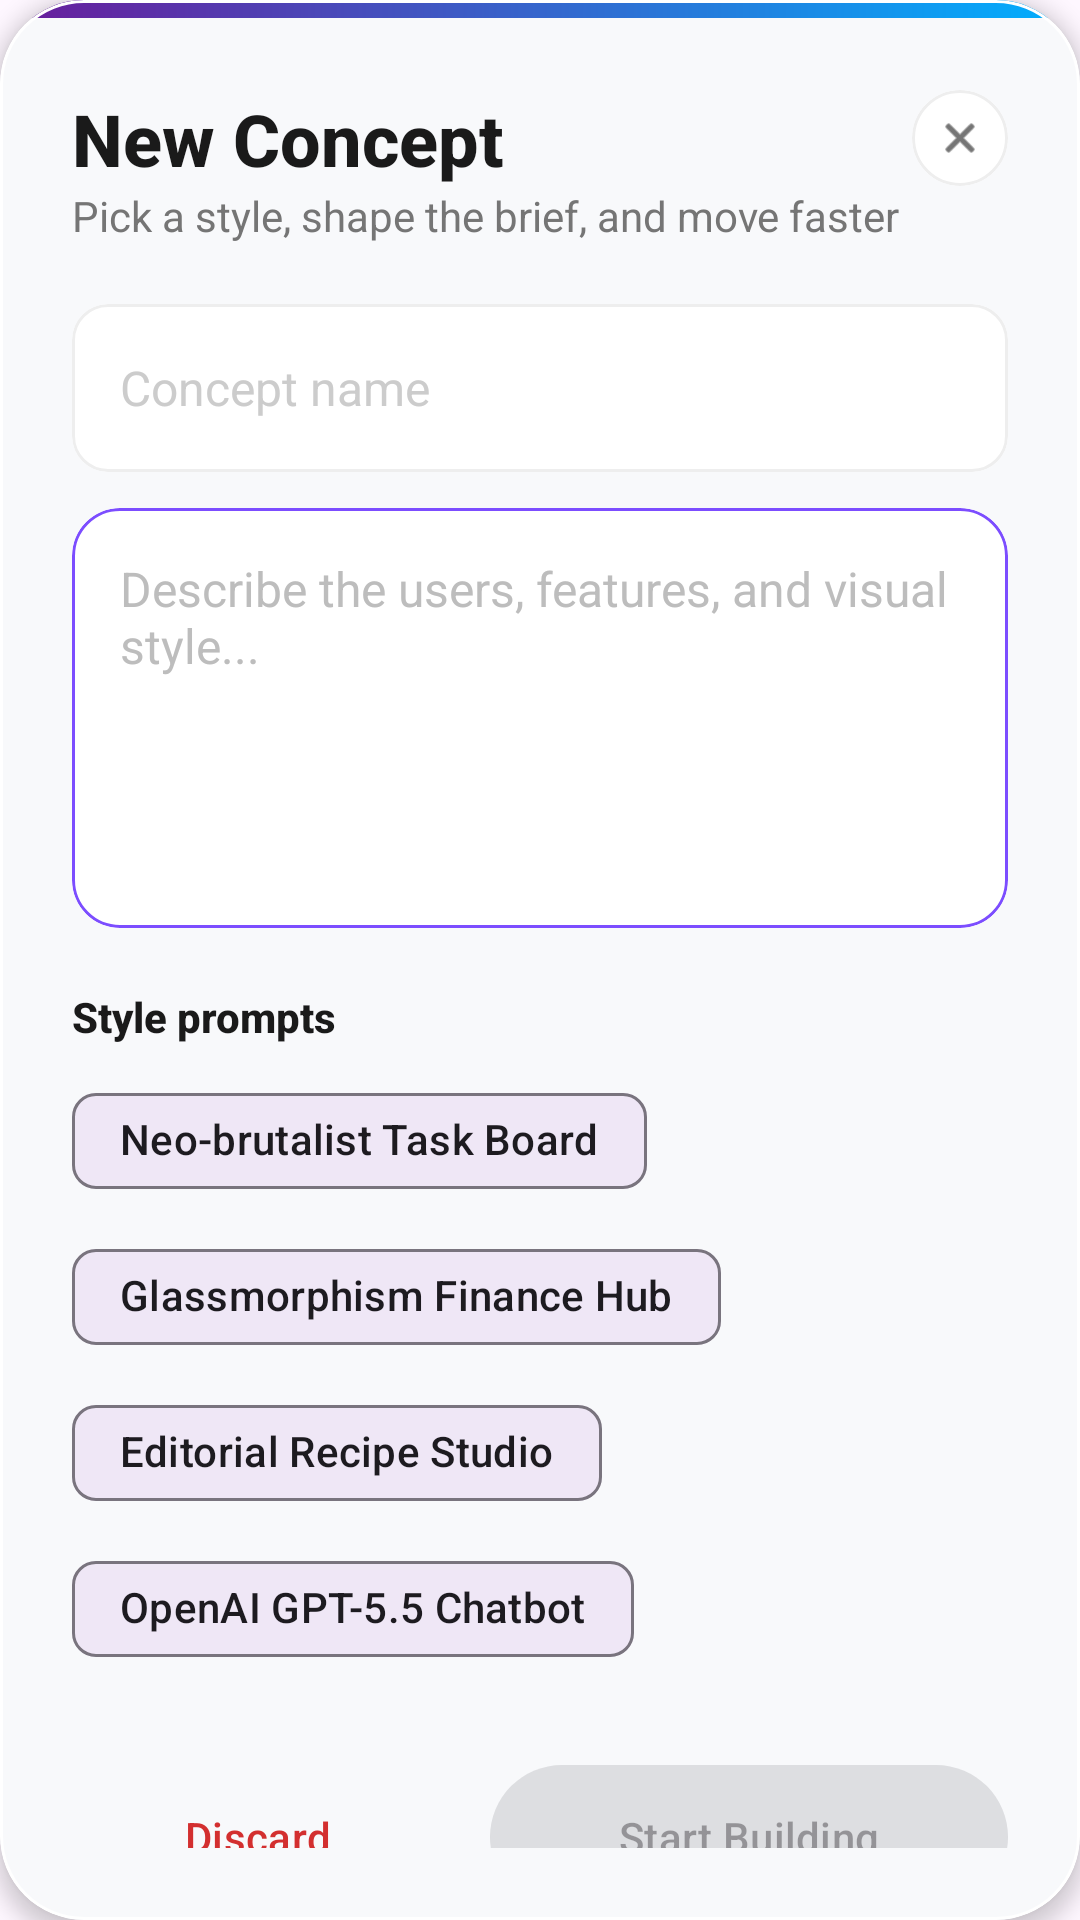

Icons on this 1080 x 1920 Android screen, each with its box as [x1, y1, x2, y2]:
Close: [945, 123, 975, 153]
